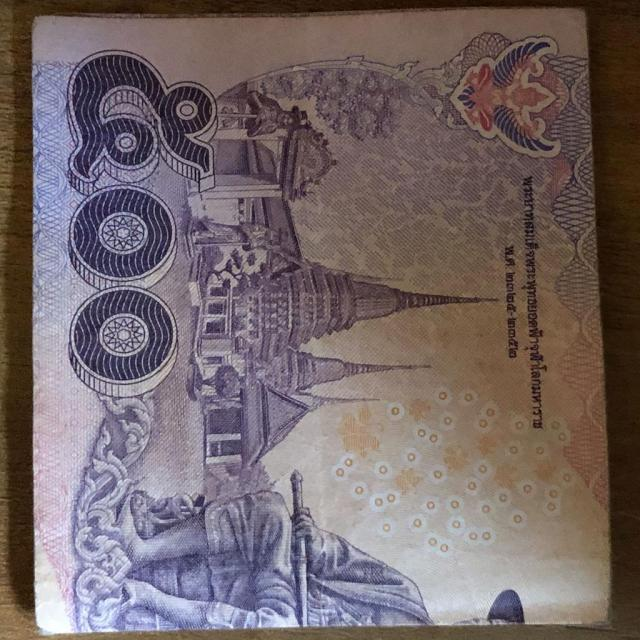THAI500: (32, 9, 611, 634)
